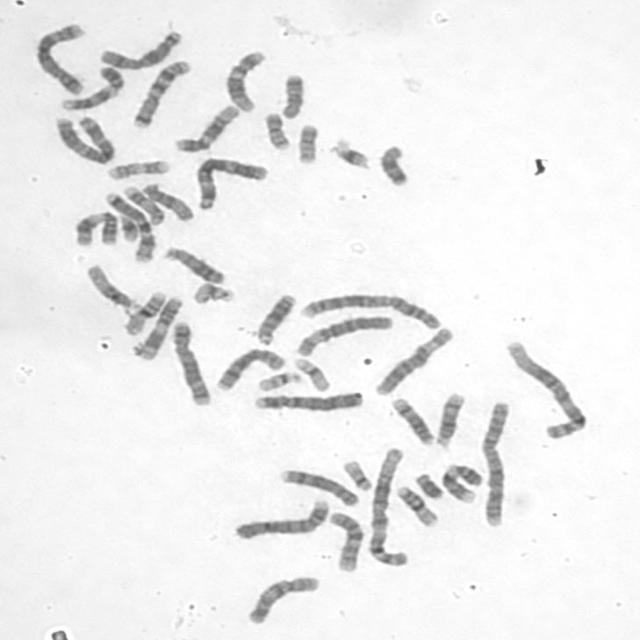A1: (499, 334, 591, 440), (362, 442, 411, 568)
A2: (294, 287, 445, 330), (474, 394, 514, 528)
A3: (189, 151, 270, 211), (48, 109, 118, 165)
B4: (229, 493, 331, 541), (248, 385, 365, 413)
B5: (28, 18, 88, 96), (165, 316, 213, 406)
C10: (240, 570, 322, 626), (323, 507, 366, 573)
C11: (129, 291, 185, 361), (68, 206, 120, 248)
C12: (168, 99, 242, 154), (218, 44, 267, 112)
C6: (368, 322, 456, 396), (289, 310, 395, 358)
C7: (127, 54, 193, 130), (98, 187, 157, 264)
C8: (274, 464, 361, 508), (209, 343, 287, 392)
C9: (54, 61, 126, 112), (434, 458, 484, 504)
D13: (158, 241, 228, 286), (249, 288, 298, 346)
D14: (386, 392, 436, 447), (430, 387, 467, 448)
D15: (80, 258, 139, 312), (136, 177, 196, 223)
E16: (116, 286, 168, 336), (390, 480, 441, 528)
E17: (117, 180, 166, 227), (101, 154, 172, 182)
E18: (371, 138, 412, 188), (274, 68, 307, 120)
F19: (288, 352, 333, 393), (192, 281, 235, 305)
F20: (258, 107, 292, 151), (290, 118, 320, 165)
G21: (325, 133, 372, 170), (112, 211, 142, 243)
G22: (251, 367, 304, 392), (343, 459, 373, 492)
X: (92, 25, 184, 71)
Y: (409, 468, 445, 500)
